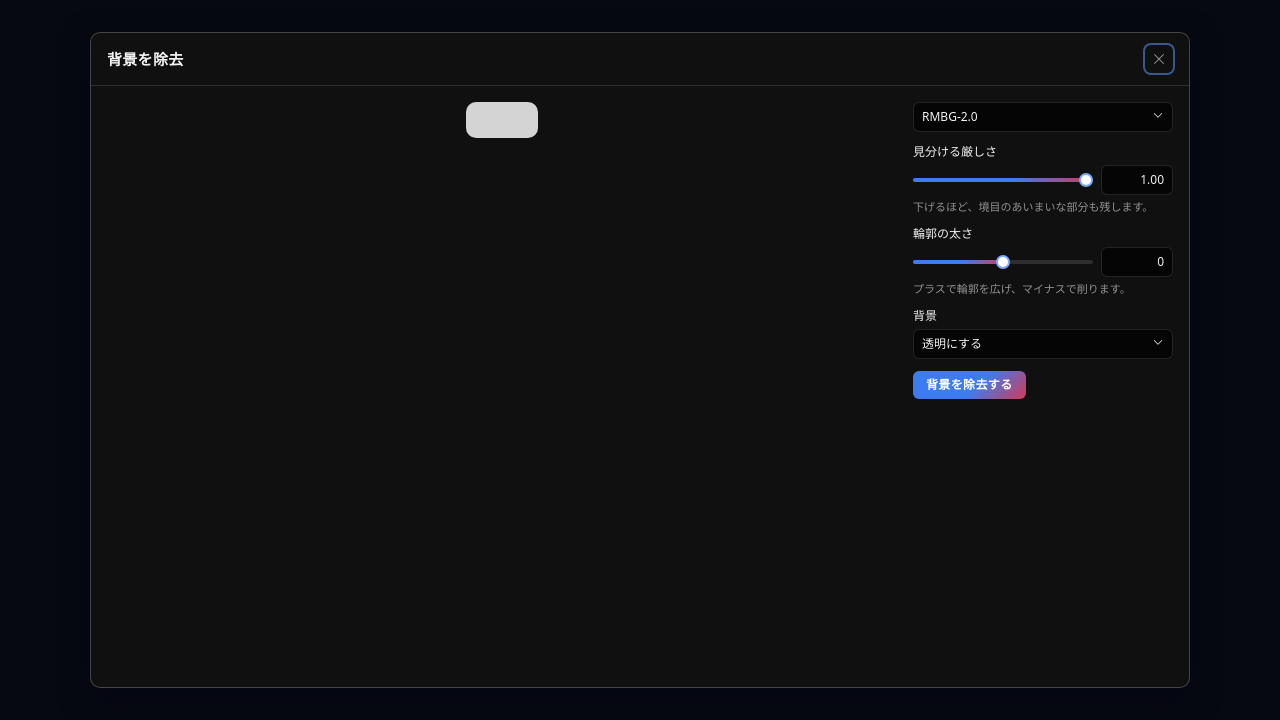
Test: remove the background › shows why it failed and lets it be tried again
Click the button with test id "cutout-run": point(969, 385) top-left (913, 371), bottom-right (1026, 399)
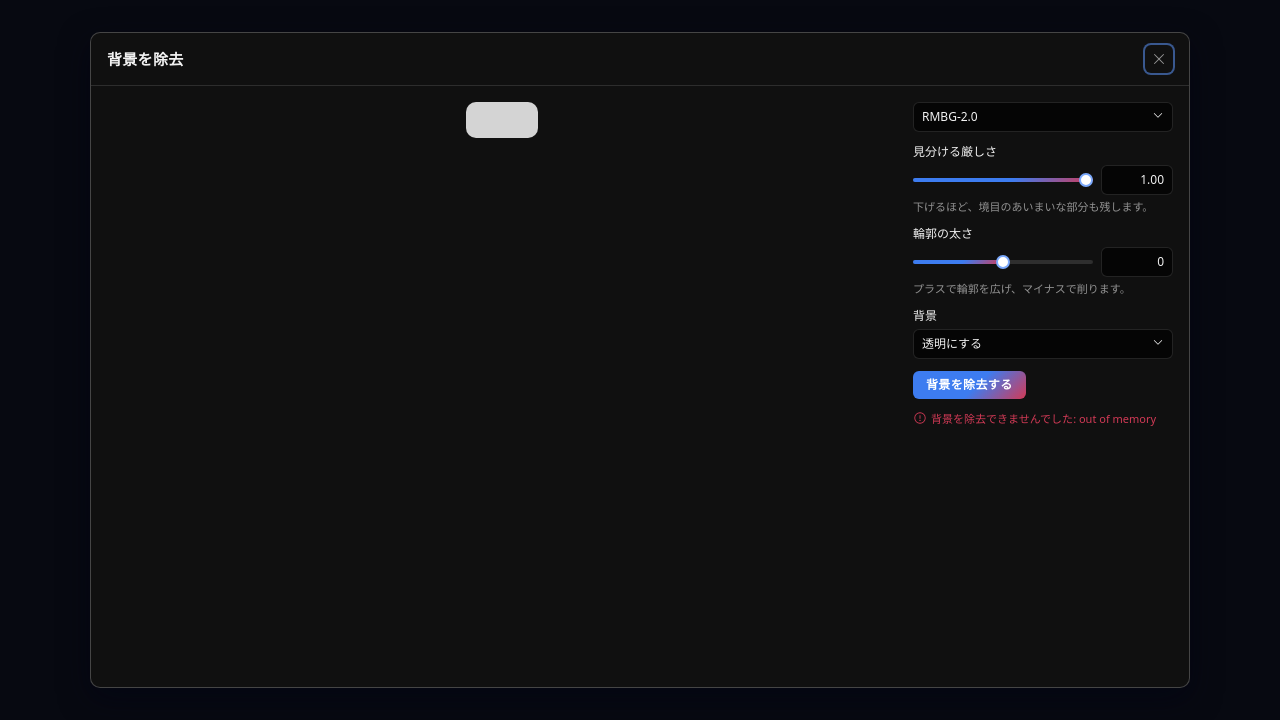
Now the message shows "out of memory", box top-left (1079, 411), bottom-right (1156, 426)
Click the button with test id "cutout-run": point(969, 385) top-left (913, 371), bottom-right (1026, 399)
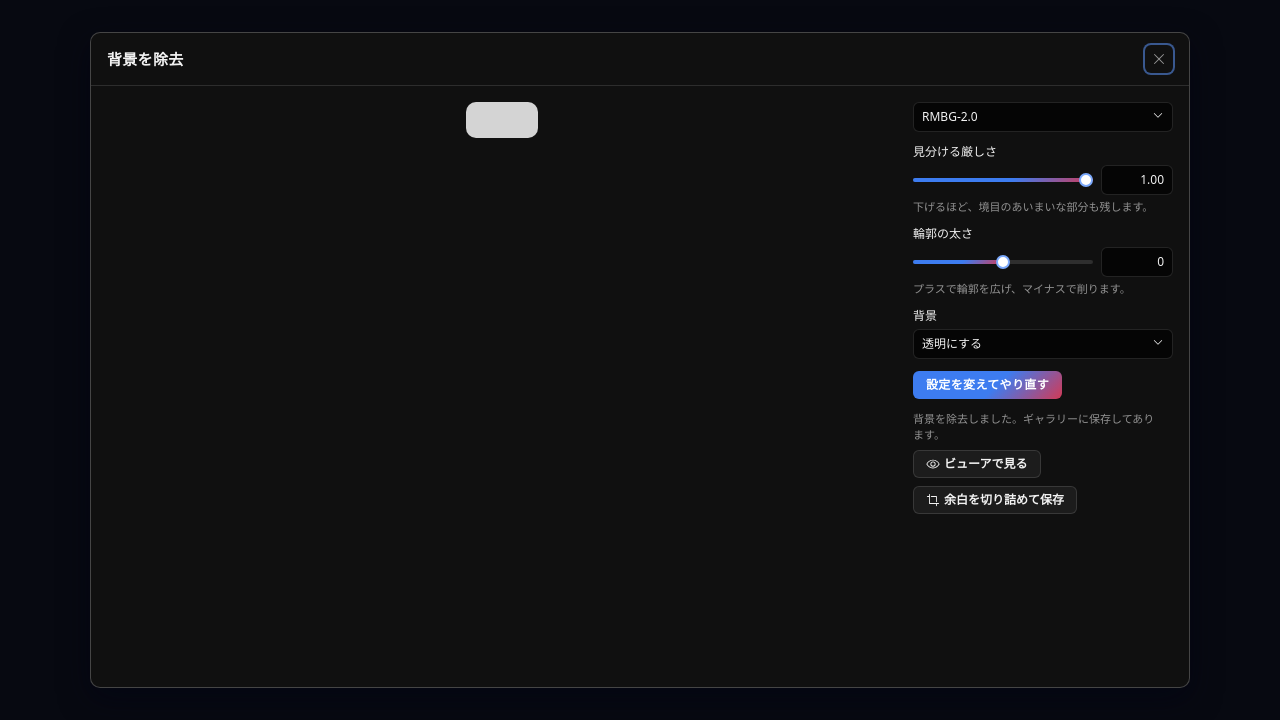
Now the element with test id "cutout-done" is shown, box top-left (913, 411), bottom-right (1173, 514)
